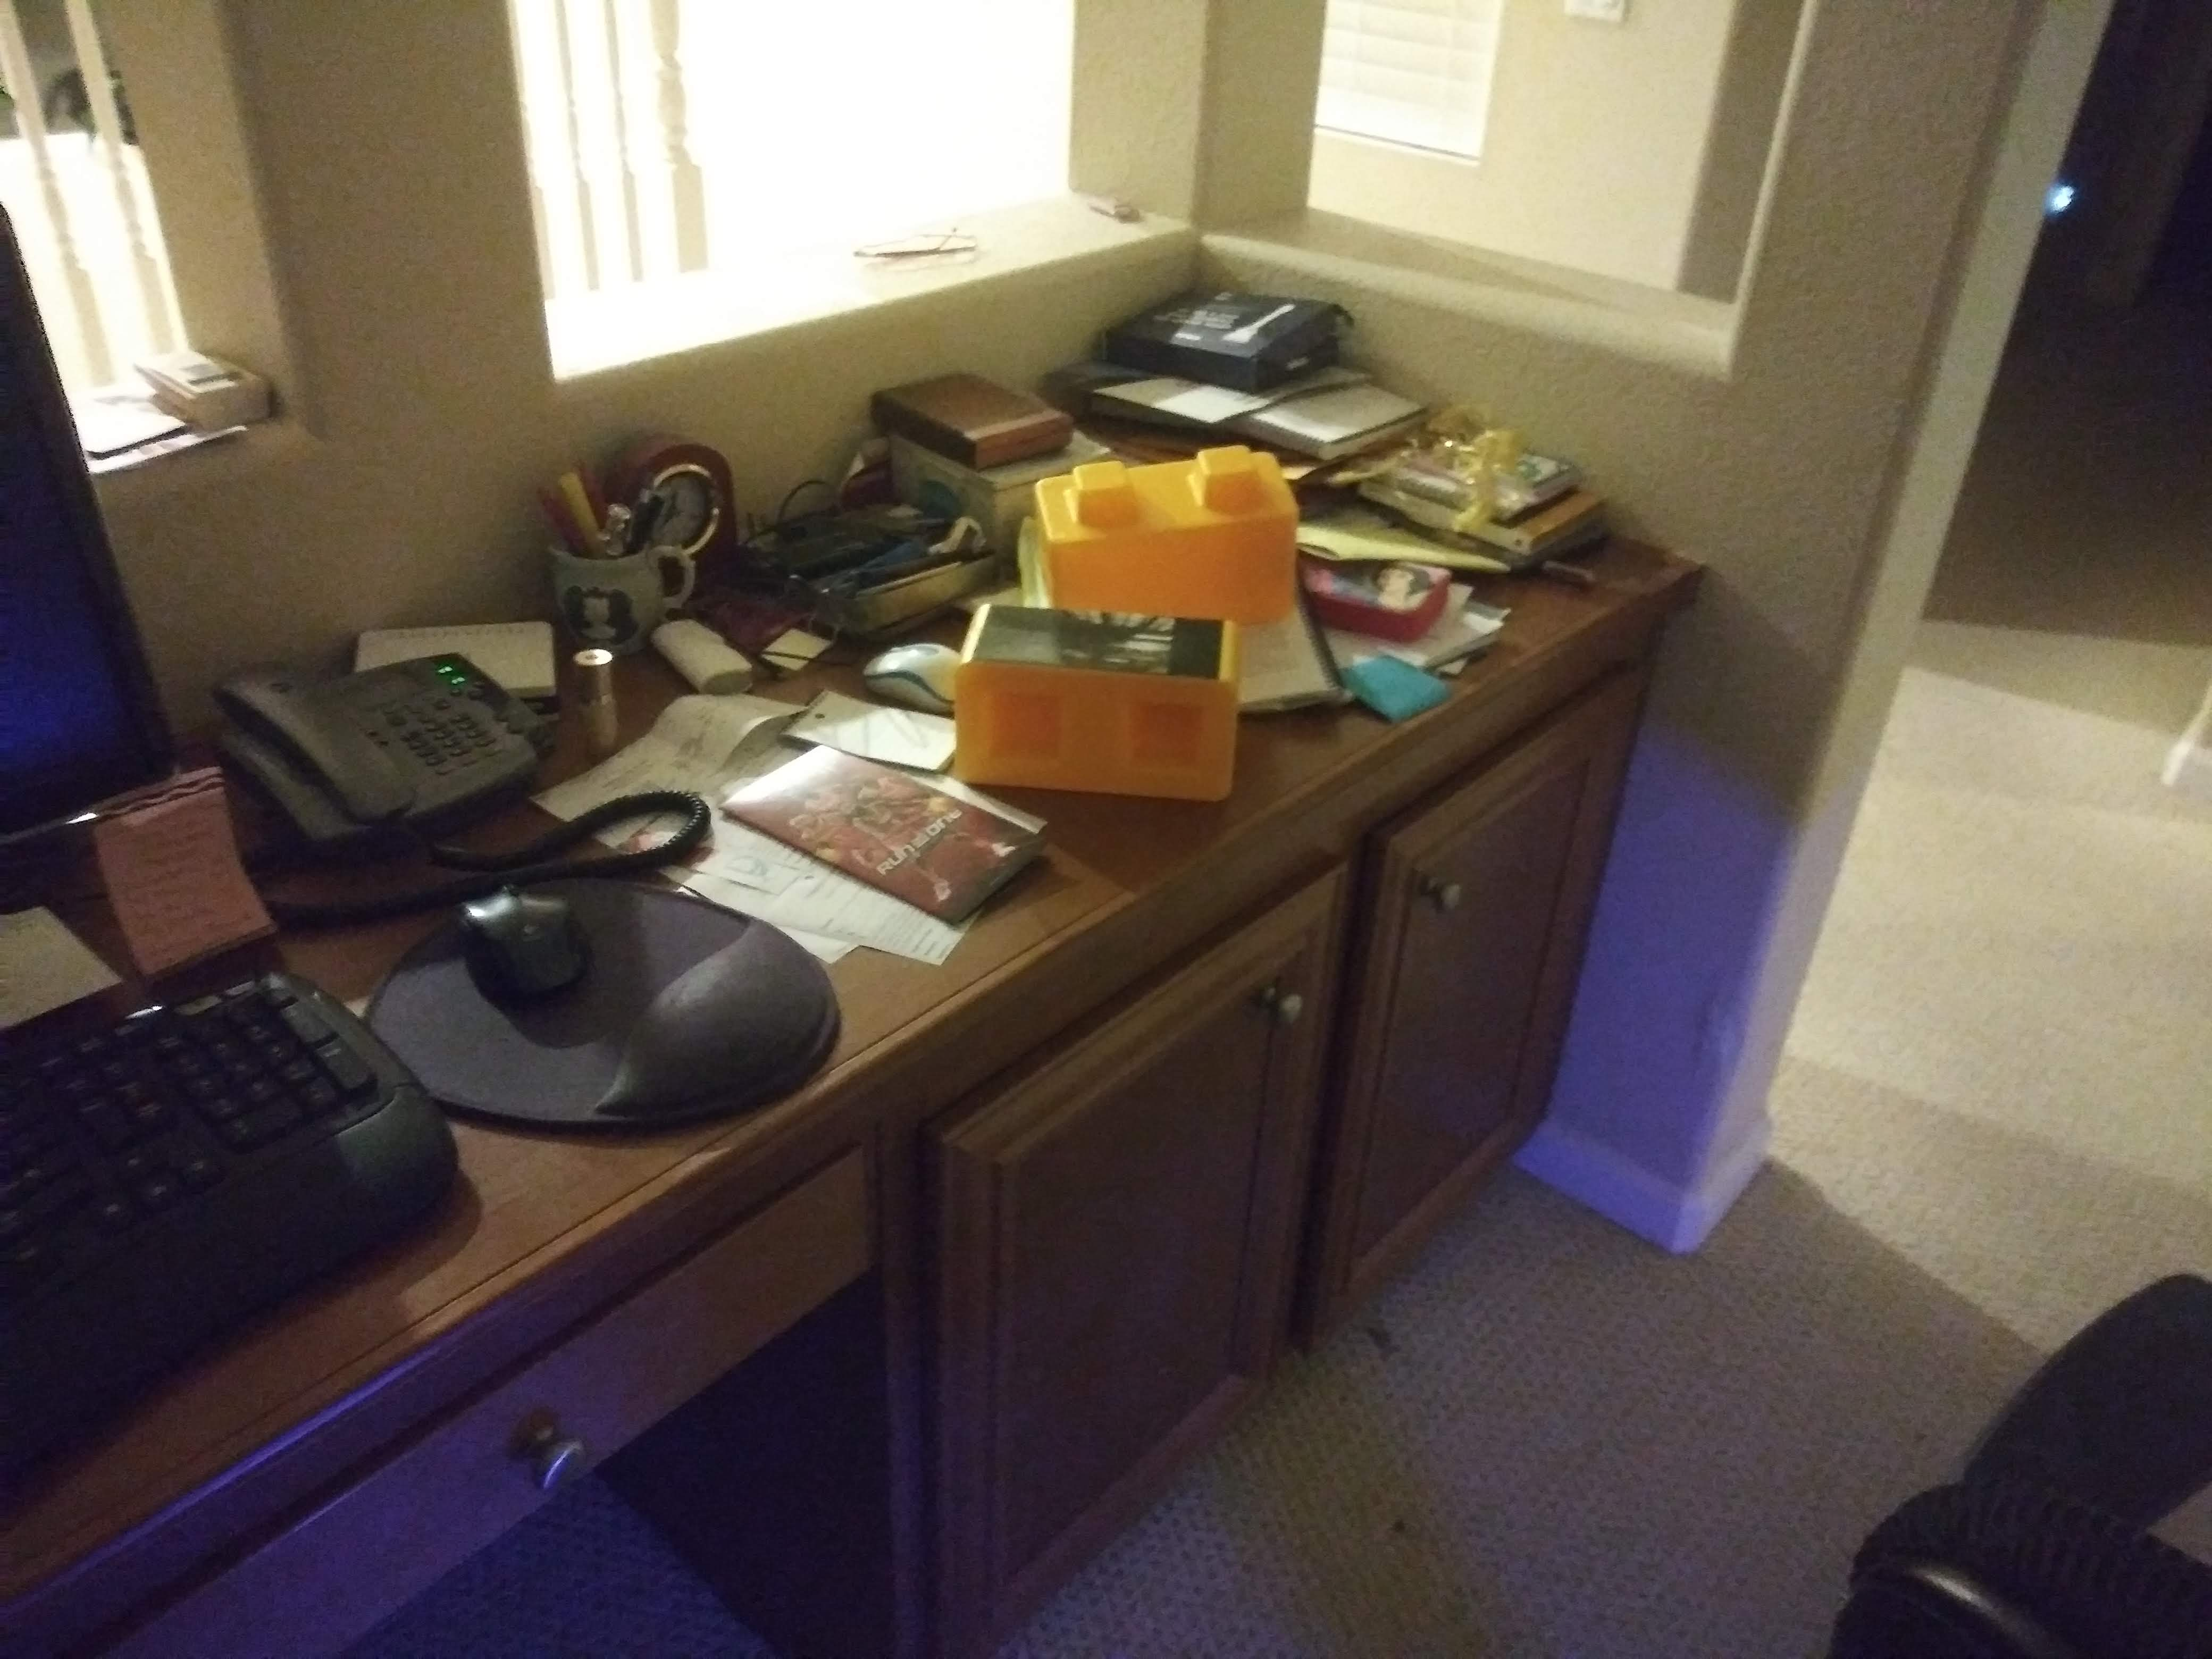skystone: (960, 612, 1238, 796)
stone: (1043, 462, 1299, 592)
